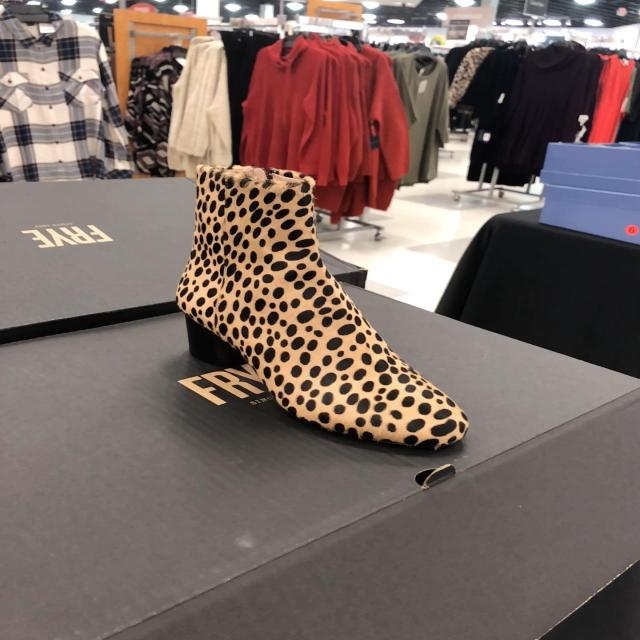shoe: (176, 165, 469, 452)
